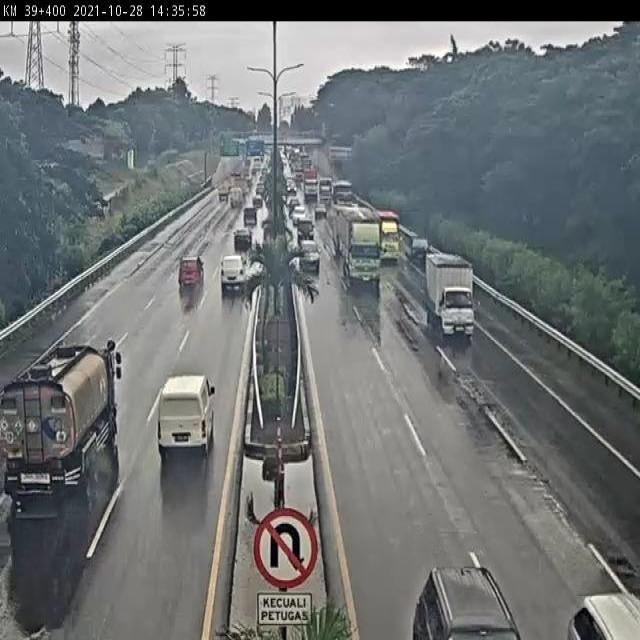big truck: (0, 332, 129, 515), (342, 214, 384, 294)
car: (413, 561, 514, 631), (151, 370, 217, 462), (565, 584, 639, 636), (218, 250, 248, 298), (406, 231, 430, 264), (176, 256, 202, 284), (302, 243, 320, 272), (298, 216, 313, 241), (290, 207, 305, 229), (239, 205, 257, 223), (234, 232, 251, 251), (315, 200, 329, 221)
small truck: (422, 260, 488, 343), (376, 209, 402, 272)
